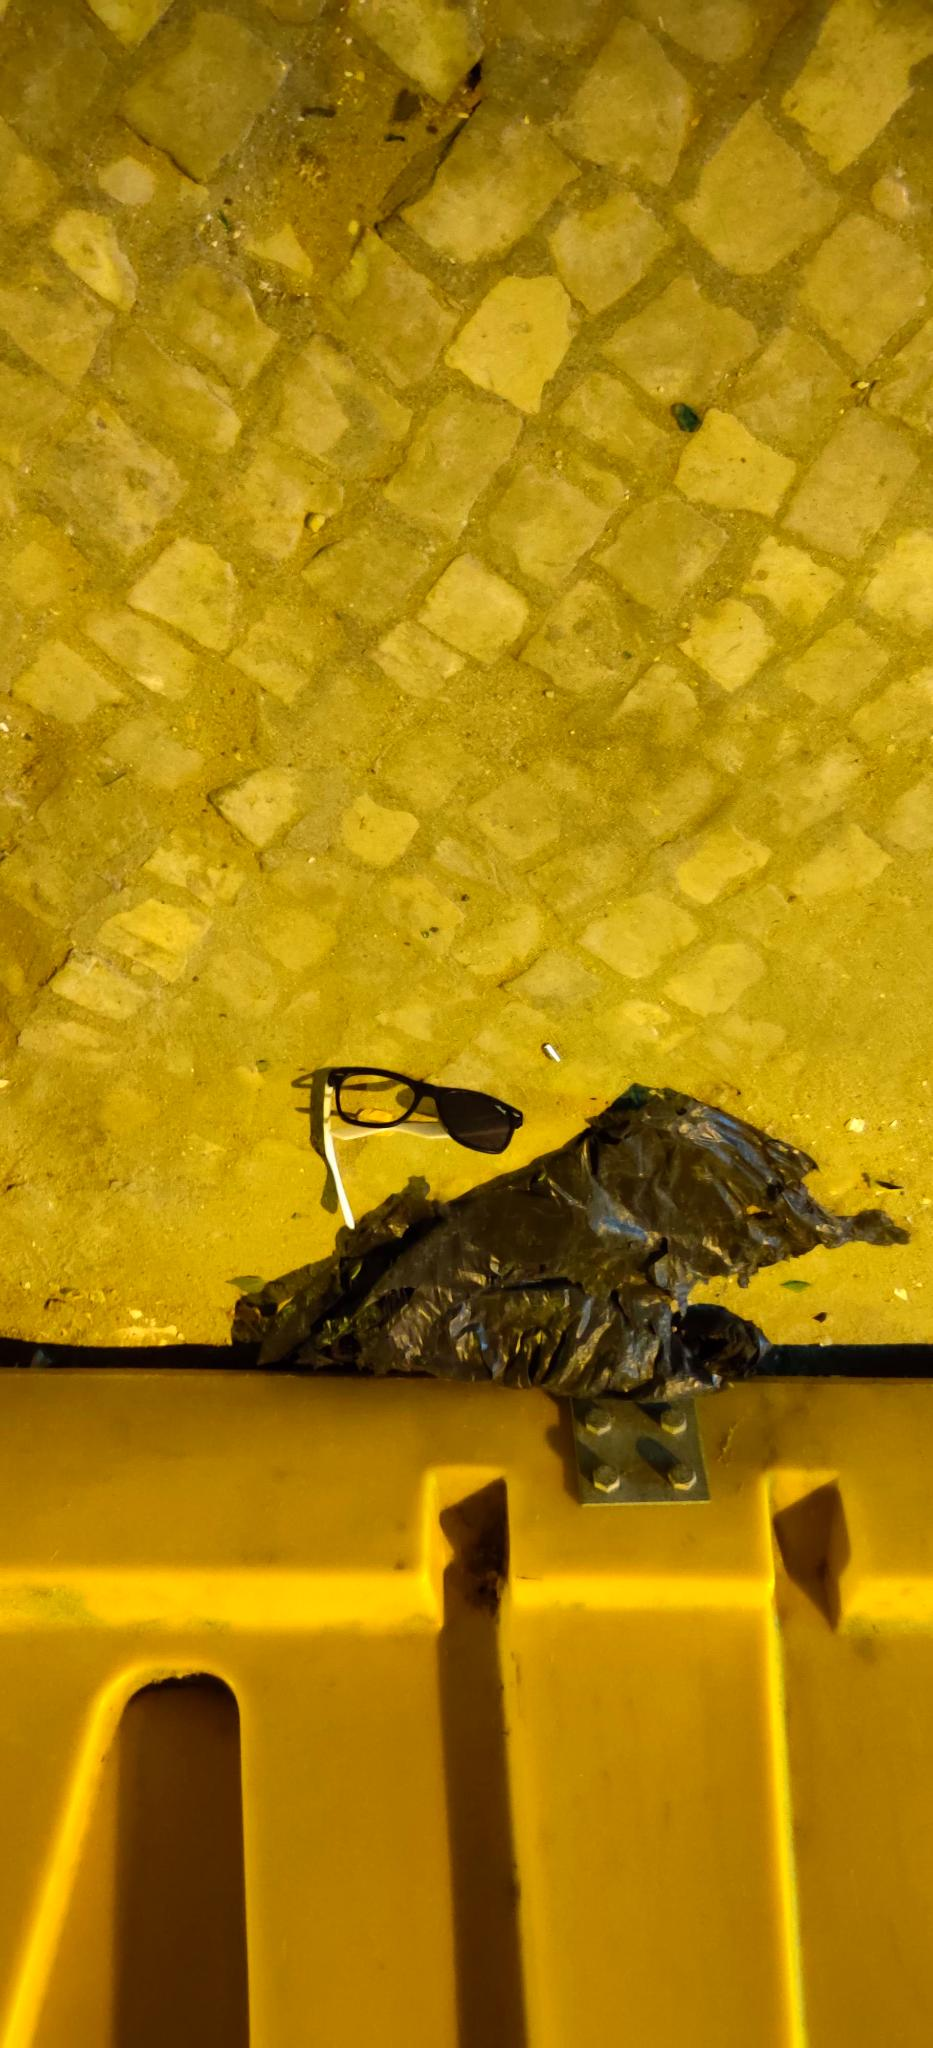Plastic: (217, 1074, 924, 1408), (310, 1062, 528, 1241)
